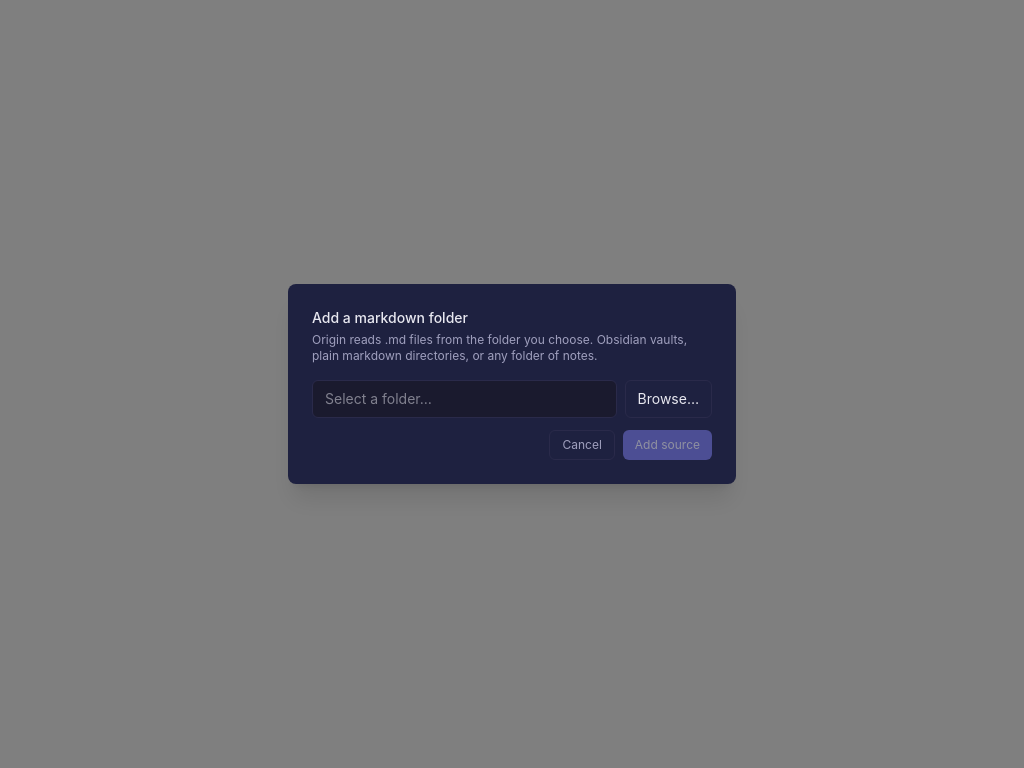
Test: AddSourceDialog › shows error when no markdown files found
Click the button "Browse…": (668, 399) [624,380,712,418]
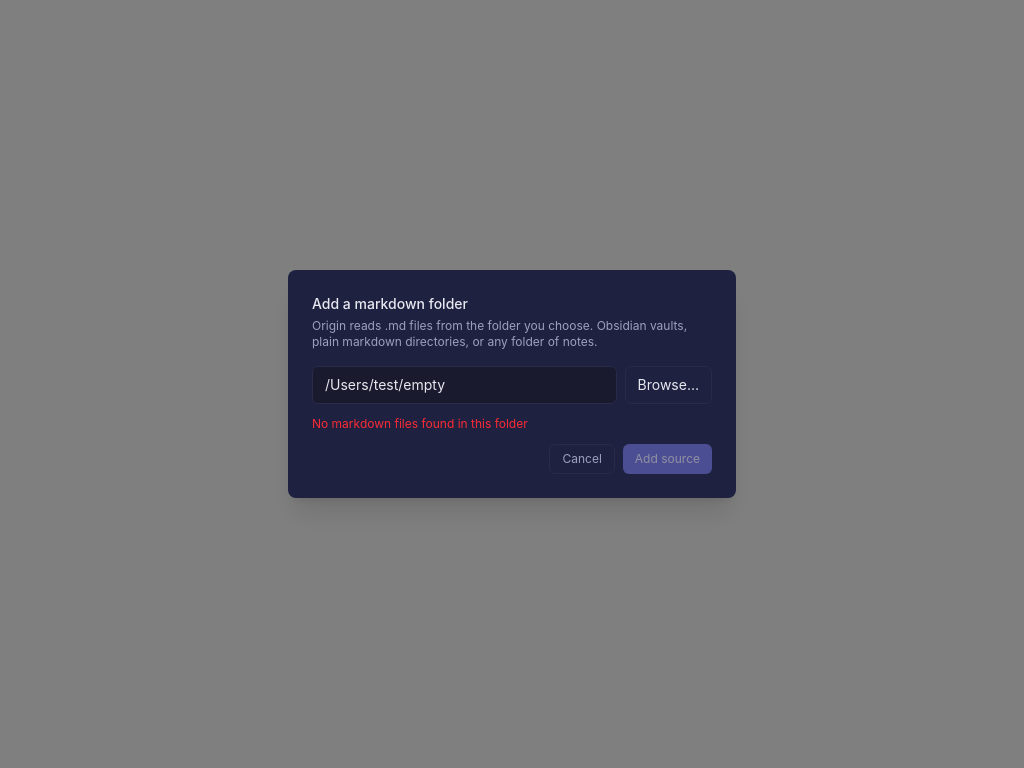
expect the button "Add source" is disabled: met, box [623,444,712,474]
expect the text "No markdown files found in this folder" is shown: met, box [312,416,528,431]
